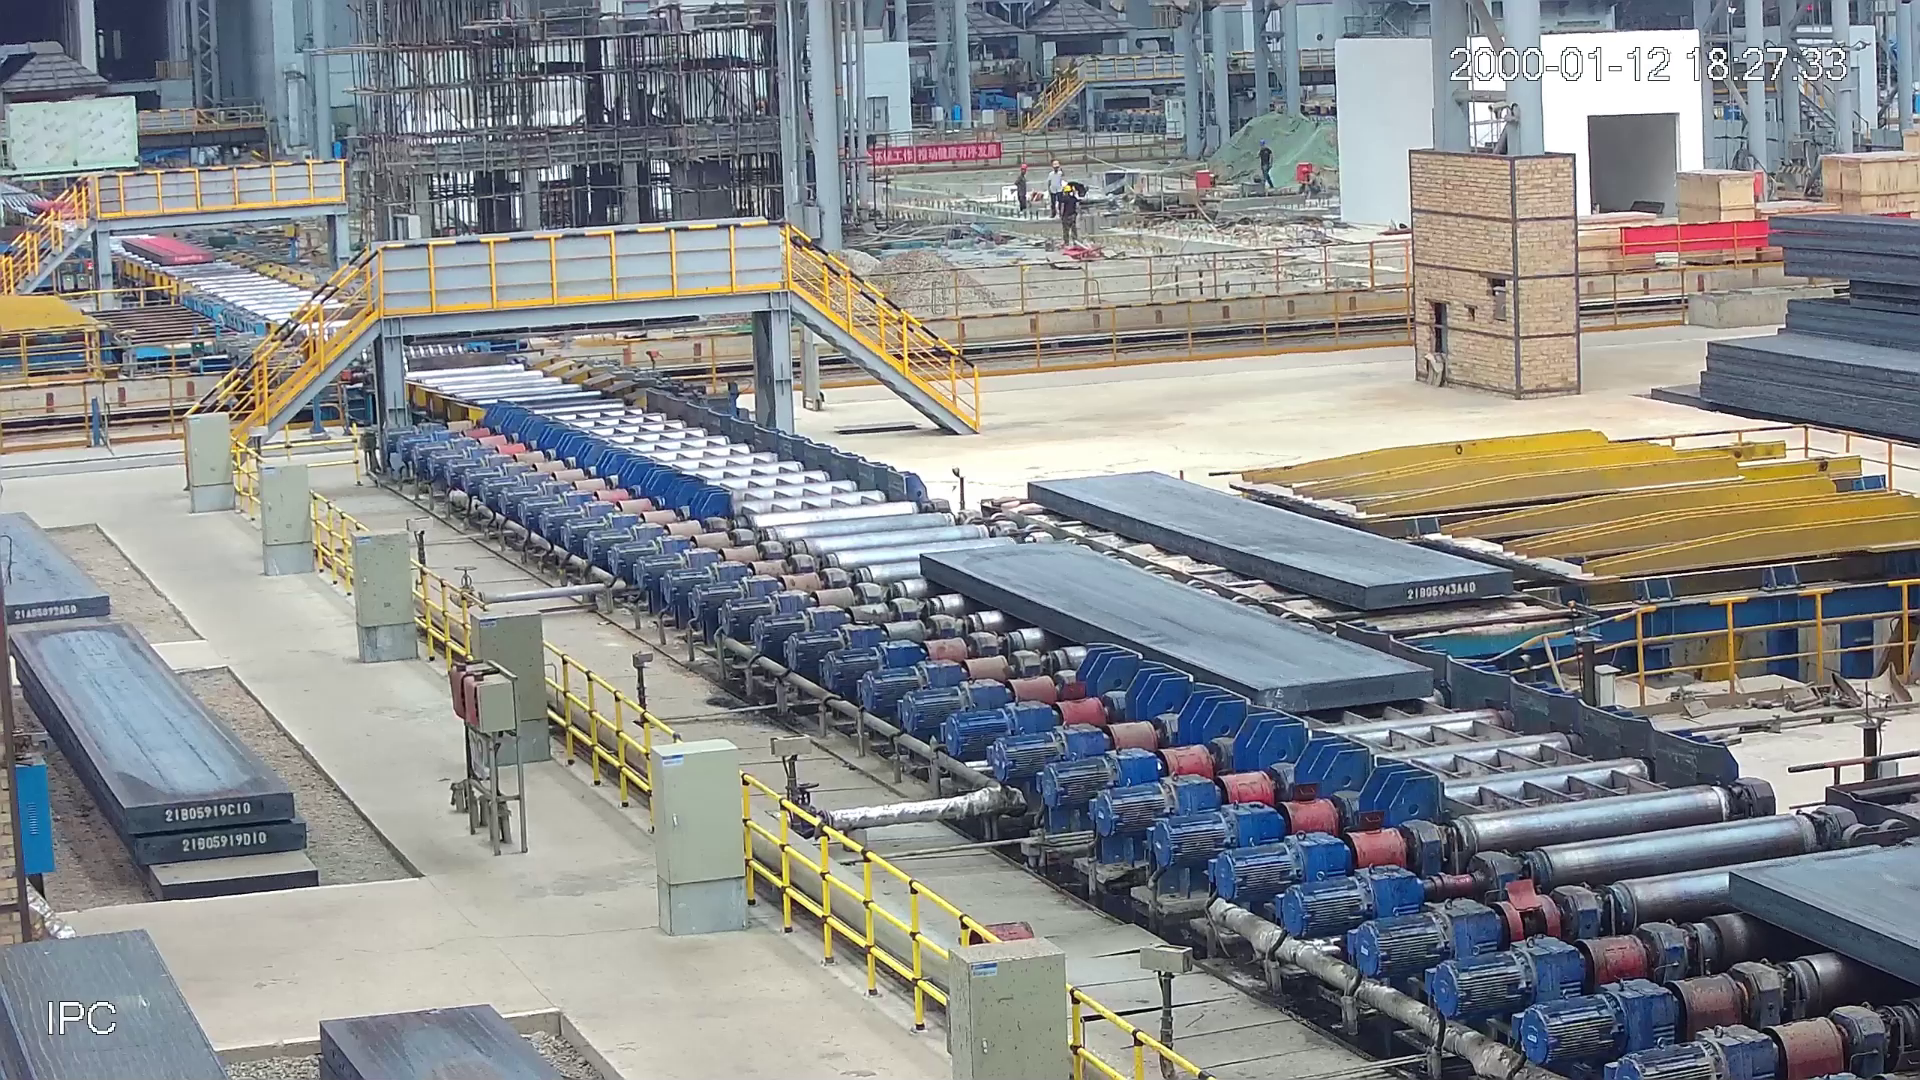slab: (915, 539, 1440, 716), (1013, 465, 1528, 611), (121, 232, 222, 266)
